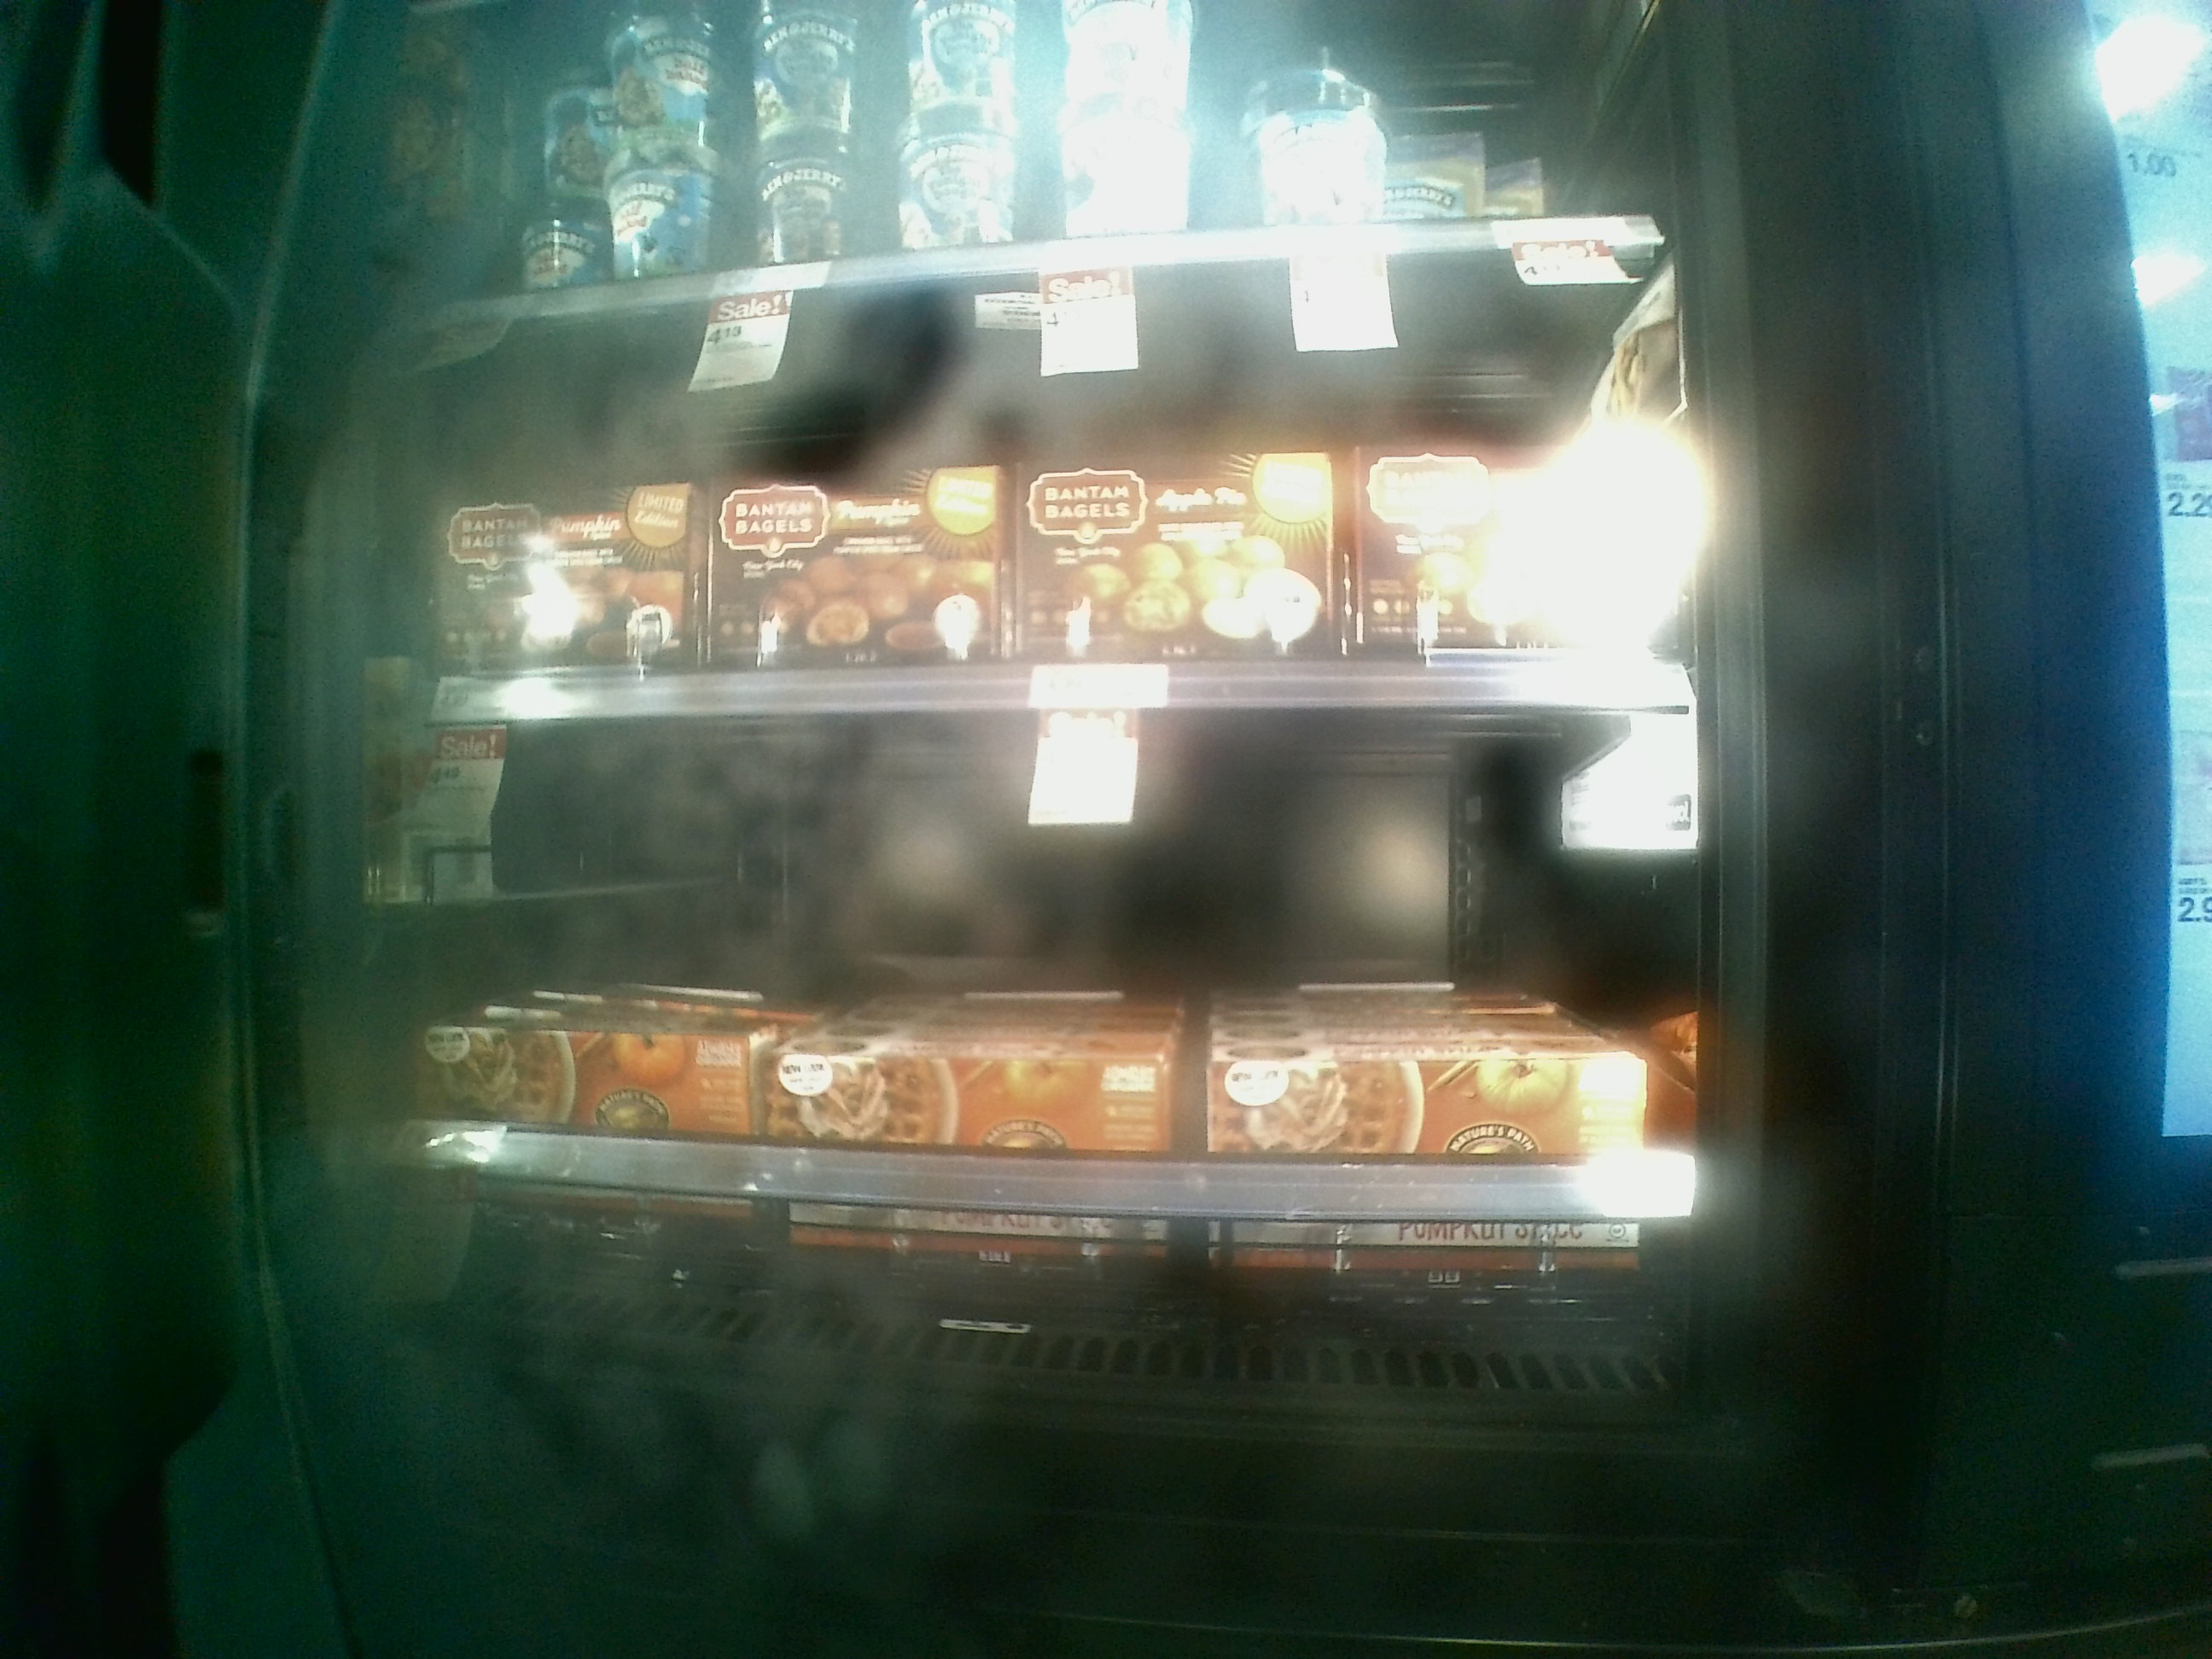shelf: (334, 706, 1702, 1436), (380, 319, 1721, 727)
